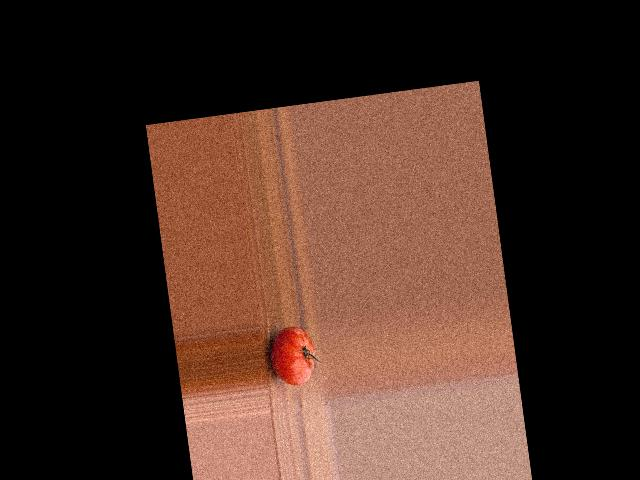tomato: (266, 324, 318, 389)
